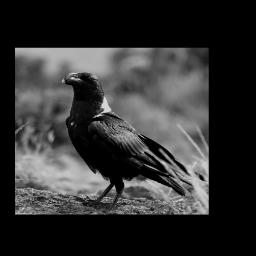Crow: (57, 69, 193, 213)
